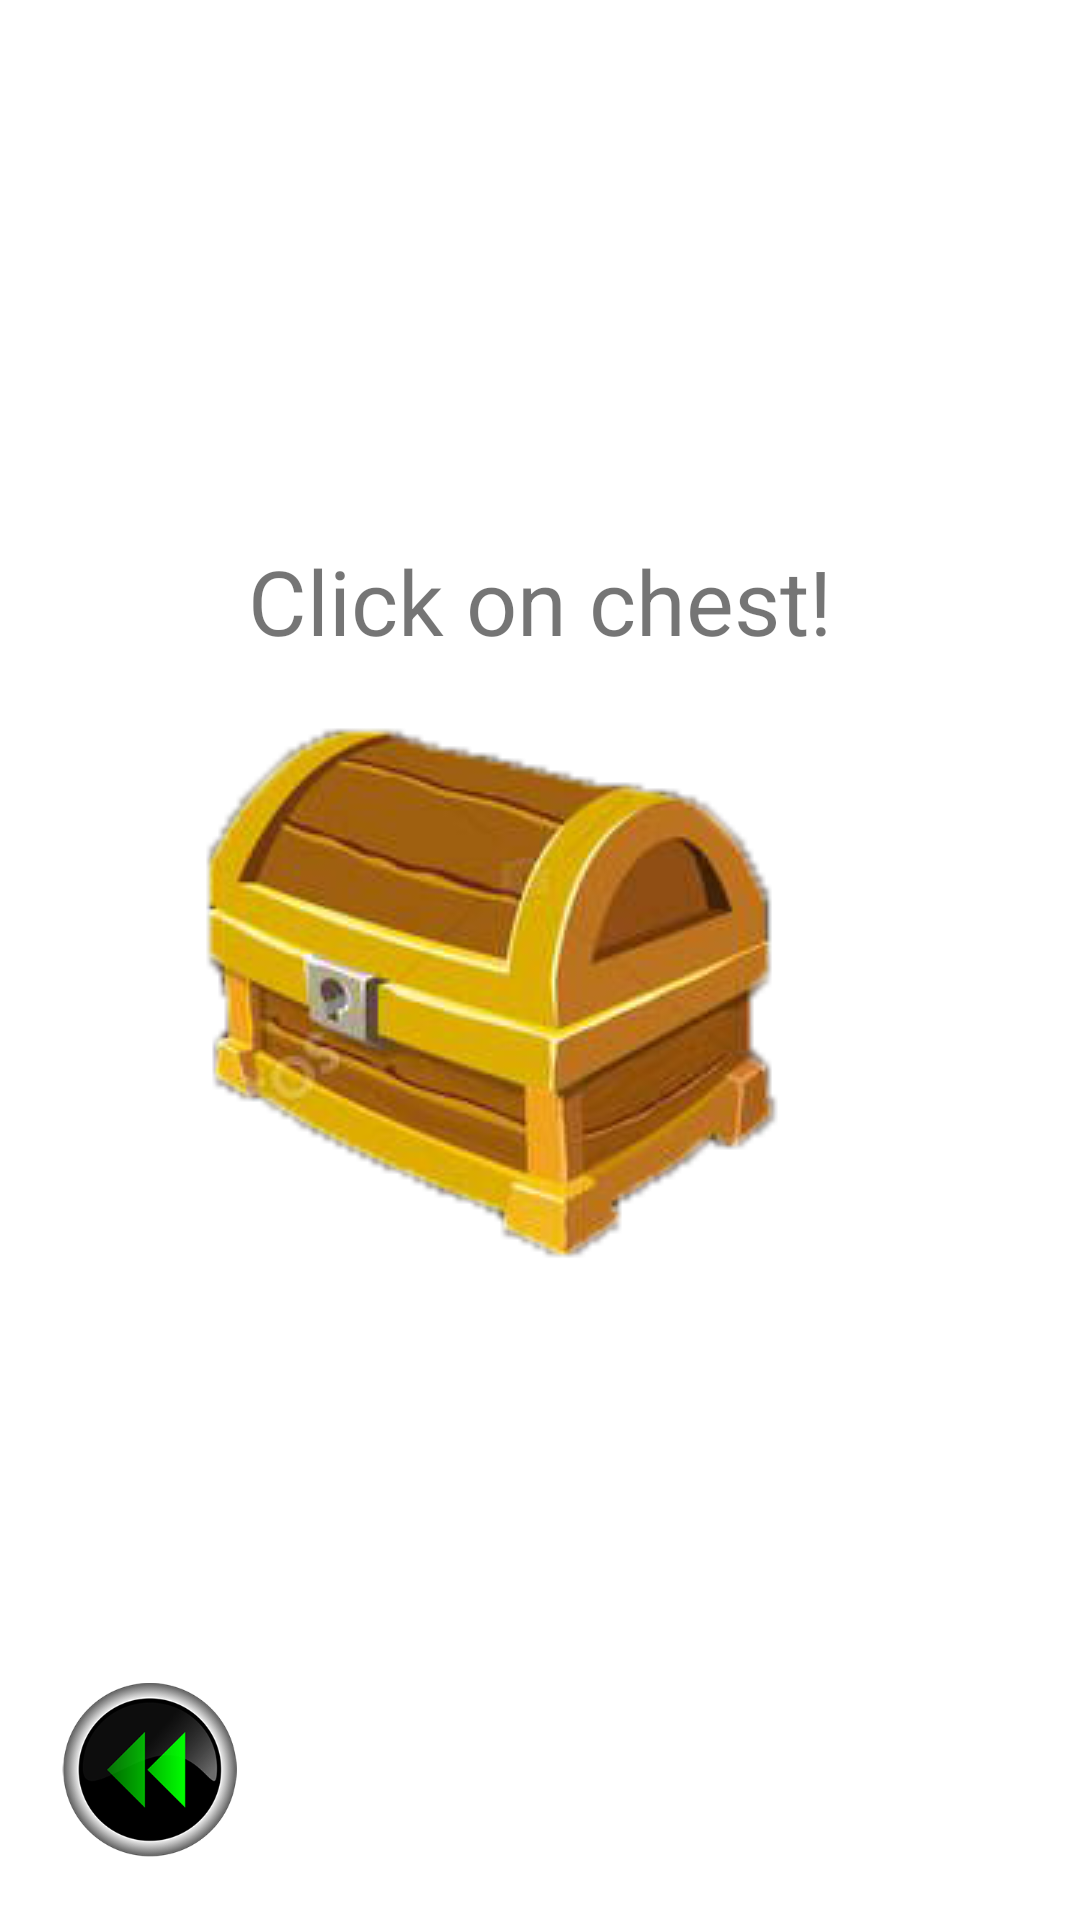

Icons on this 1080×1920 Android screen, each with the point to tap as [x,y]:
back: [149,1770]
